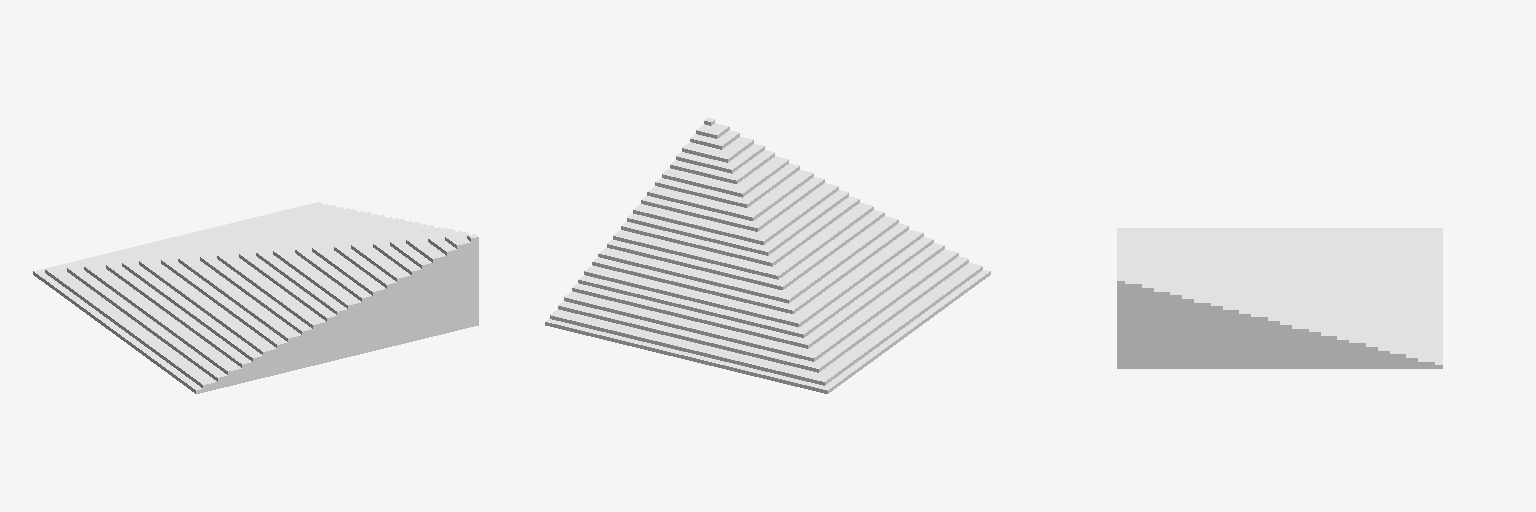
File: dom-3.obj
3 views of the same model, side by side, from view 1: azimuth 30°, elevation 25°; view 2: azimuth 150°, elevation 25°; view 3: azimuth 270°, elevation 25° (orthographic).
Visible parts, largest first — view 1: object 1; view 2: object 1; view 3: object 1.
Part boxes in pixels (x1,y1,x2,y2): object 1: (33,202,478,393); object 1: (545,118,990,393); object 1: (1117,228,1442,368).
Bounding box in the file's own units: 8 × 2.4 × 8.